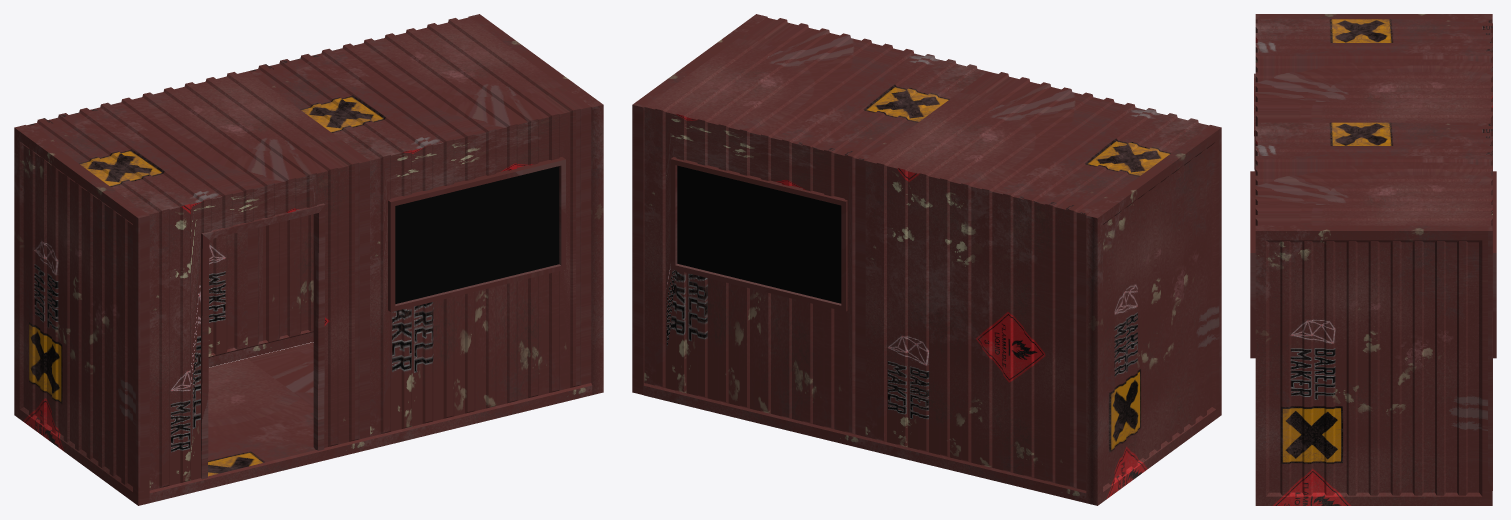
Rendered from CS_office_container_outside.FBX.
3 views of the same model, side by side, from view 1: azimuth 30°, elevation 25°; view 2: azimuth 150°, elevation 25°; view 3: azimuth 270°, elevation 25° (orthographic). The views are drawn at different scales.
Visible parts, largest first — view 1: SM_office_container_Container_Office; view 2: SM_office_container_Container_Office; view 3: SM_office_container_Container_Office.
Boxes of the visible parts, x1,y1,x2,y2 form: SM_office_container_Container_Office: [14, 14, 603, 505]; SM_office_container_Container_Office: [632, 14, 1221, 505]; SM_office_container_Container_Office: [1250, 14, 1496, 505].
Bounding box in the file's own units: 477 × 229 × 284.
